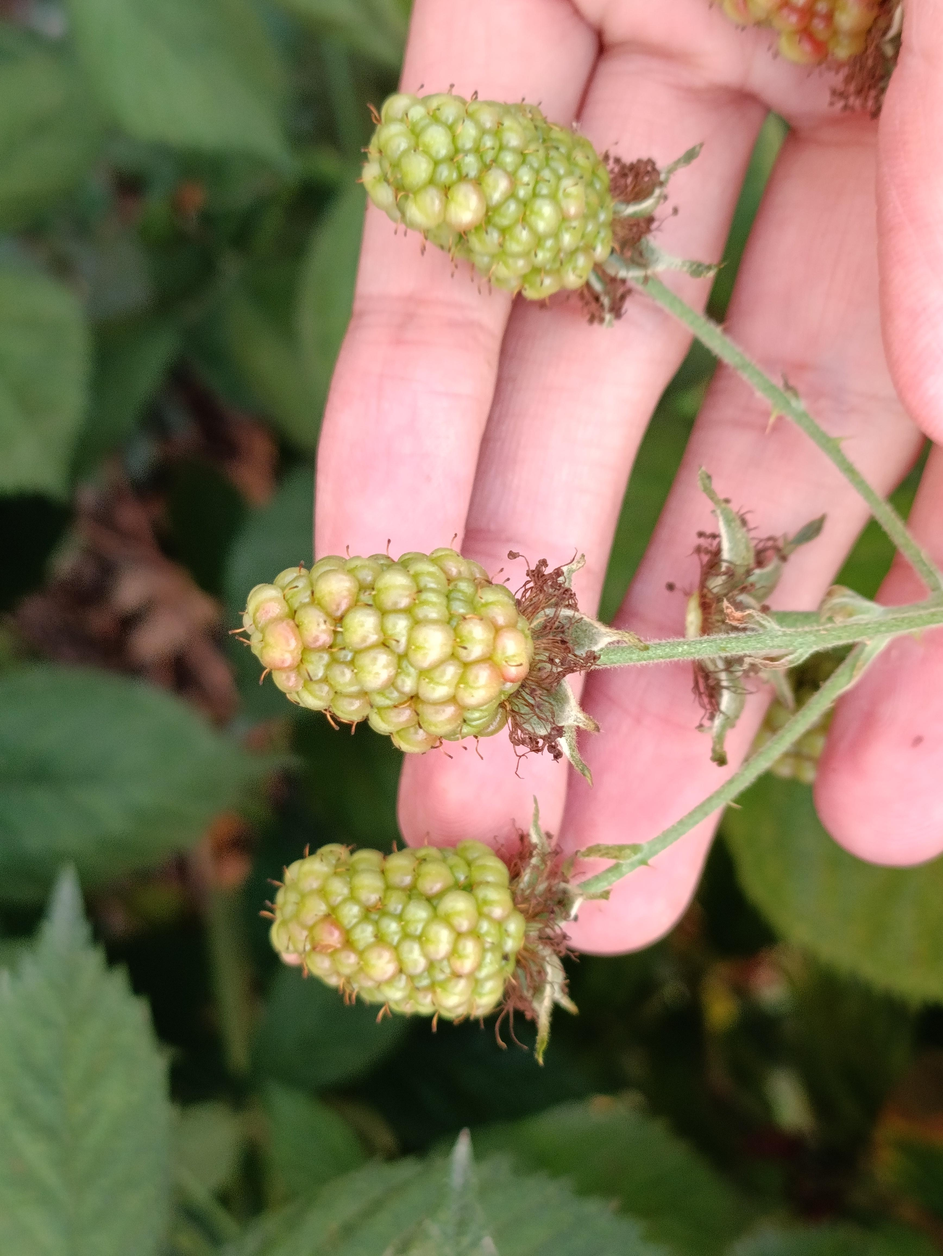verde: (269, 842, 573, 1053), (243, 547, 552, 753), (363, 95, 615, 300)
